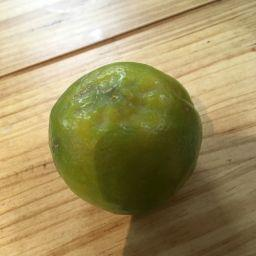Ripe: (47, 63, 197, 212)
